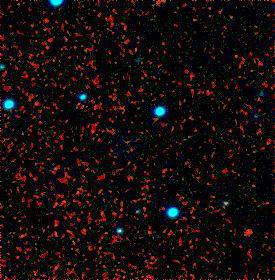star: (233, 219, 263, 249)
